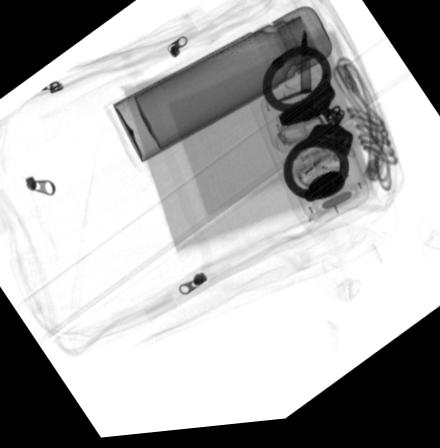Bullet: (298, 35, 310, 99)
HandCuffs: (260, 51, 353, 209)
